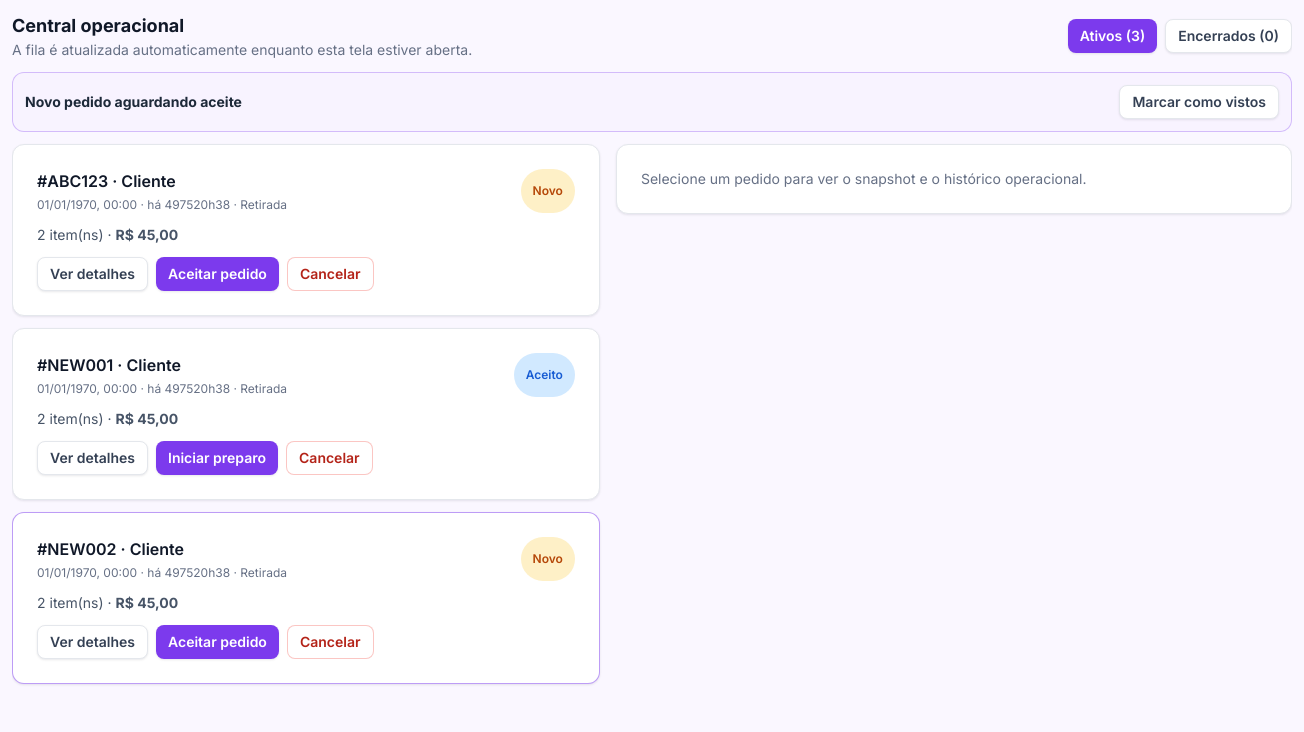
Test: operação de pedidos no painel › não marca confirmados da carga inicial, mas sinaliza múltiplos novos uma única vez
Expected: the text "#NEW001 · Cliente" is shown once, [37, 355, 181, 375]
Expected: the text "Novo pedido aguardando aceite" is shown, [25, 92, 242, 112]
Click the button "Marcar como vistos" at (1199, 102), box [1119, 85, 1279, 119]
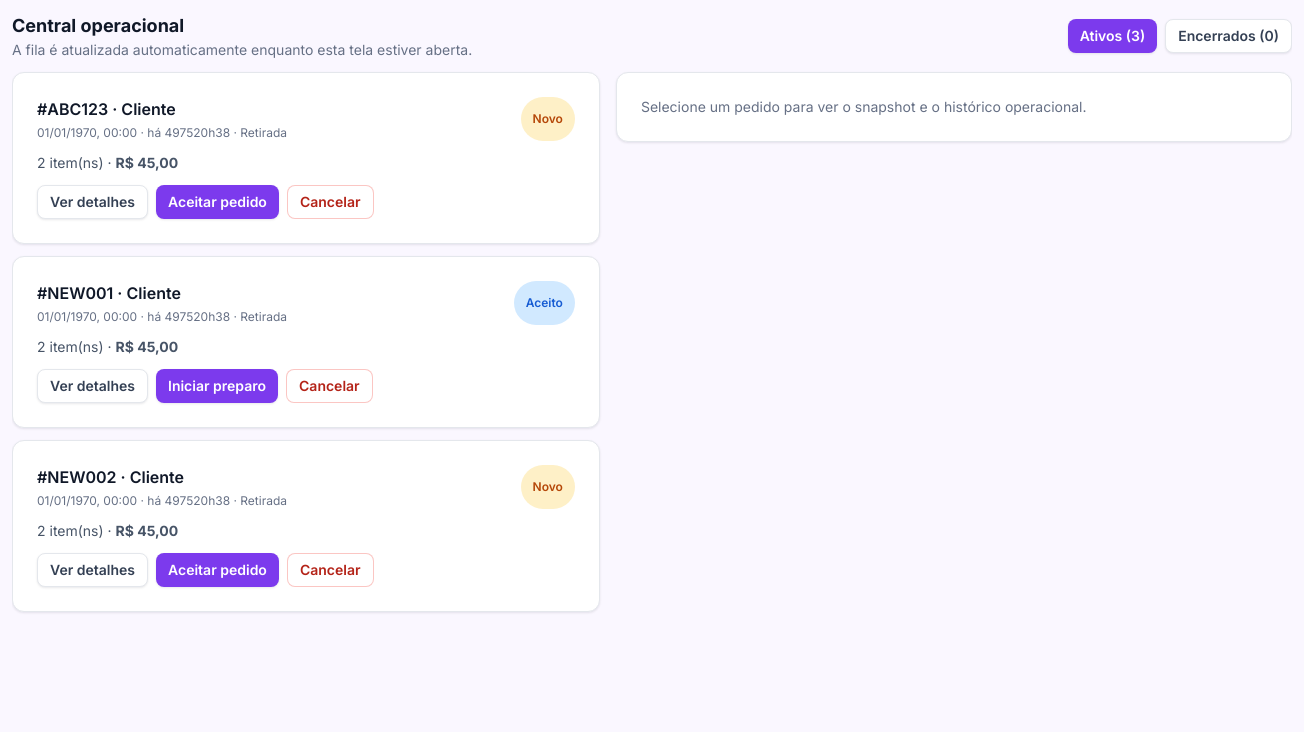
Now the text "Novo pedido aguardando aceite" is gone
